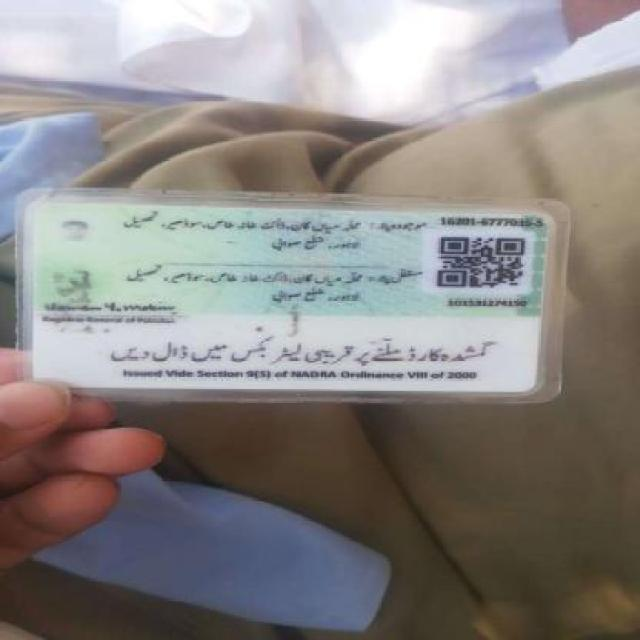Back: (12, 192, 557, 398)
